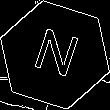N_S: (27, 25, 83, 85)
